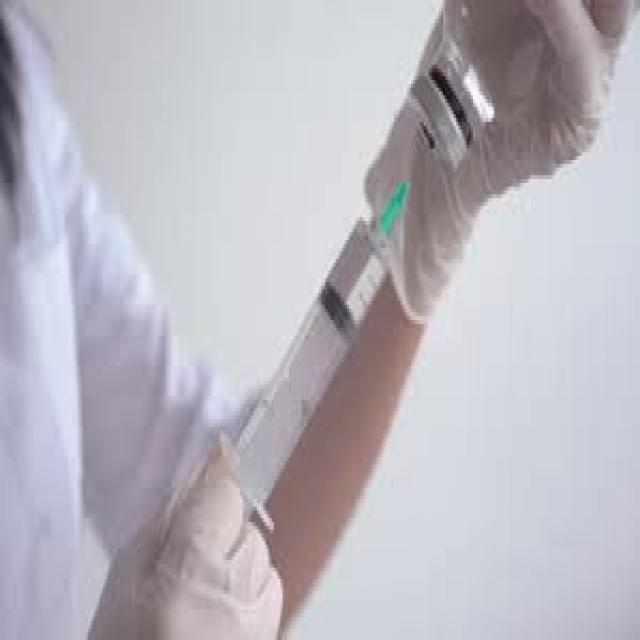syringe: (210, 120, 466, 566)
